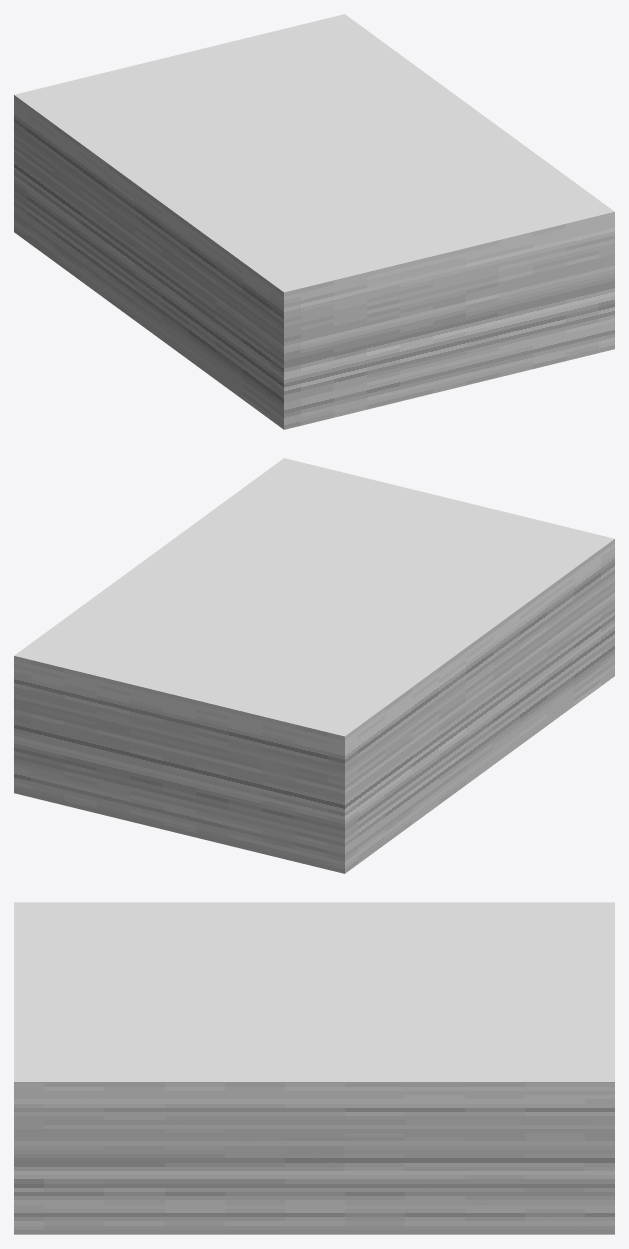
The model's file is paper_stack_large.fbx.
3 renders of one model, top to bottom at view 1: azimuth 30°, elevation 25°; view 2: azimuth 150°, elevation 25°; view 3: azimuth 270°, elevation 25°, orthographic. The views are drawn at different scales.
Parts seen in each view (by area): view 1: paper_stack_large; view 2: paper_stack_large; view 3: paper_stack_large.
Part boxes in pixels (x1,y1,x2,y2): paper_stack_large: (14, 14, 614, 429); paper_stack_large: (14, 458, 614, 873); paper_stack_large: (14, 902, 614, 1234).
Bounding box in the file's own units: 29.76 × 11.81 × 42.09.
